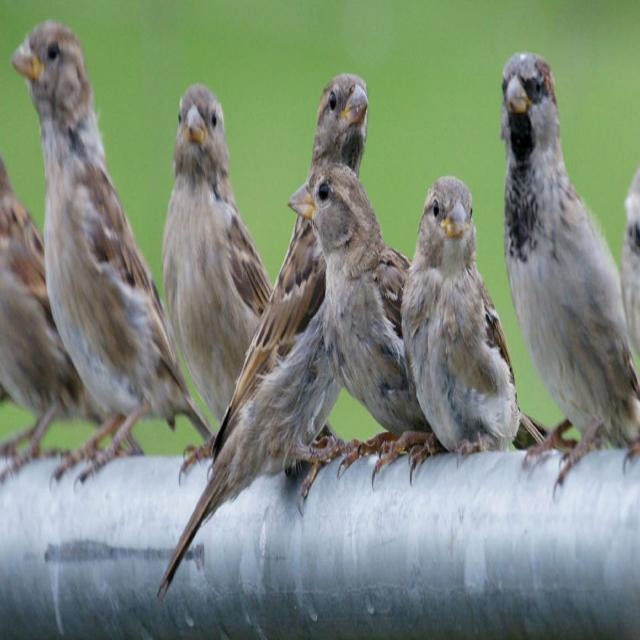Sparrow: (11, 11, 170, 460), (502, 47, 640, 457), (168, 71, 266, 428), (401, 164, 520, 457), (291, 150, 411, 429)
